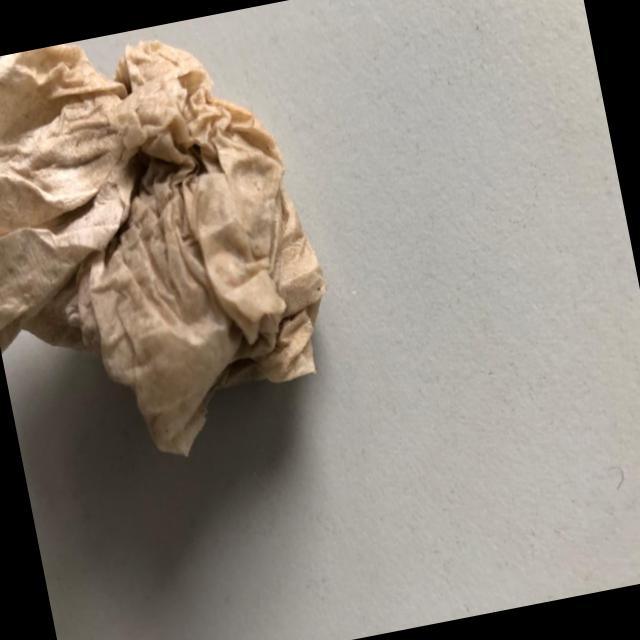organic waste: (0, 3, 356, 484)
